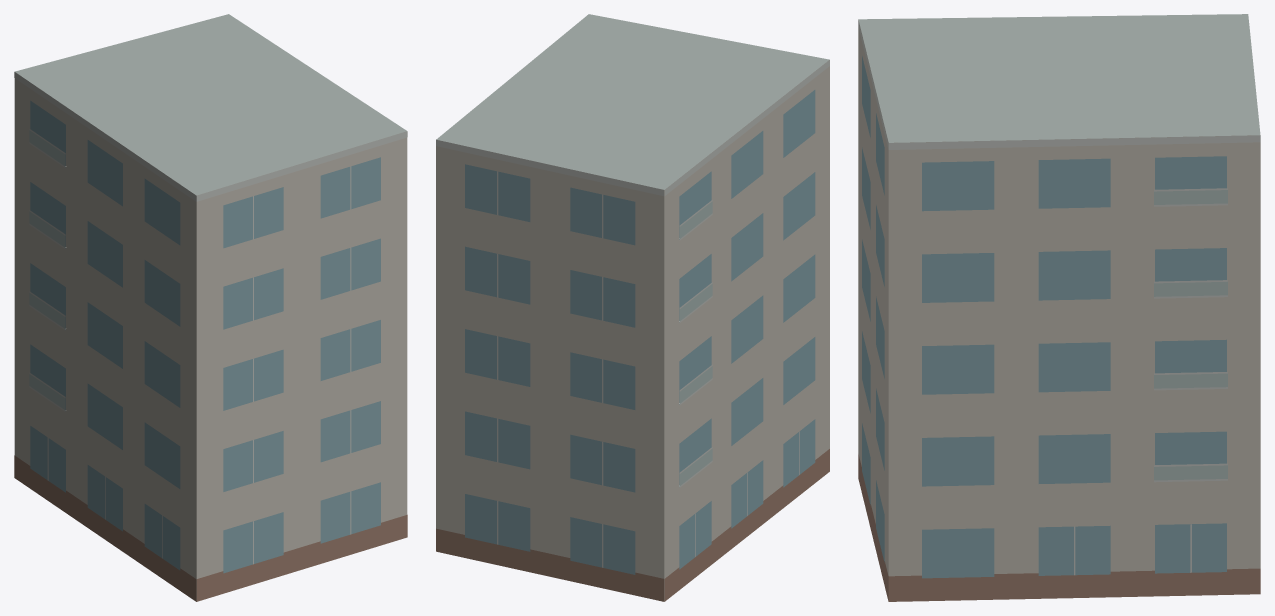
The model's file is survey-upis-32995978.glb.
3 views of the same model, side by side, from view 1: azimuth 30°, elevation 25°; view 2: azimuth 150°, elevation 25°; view 3: azimuth 270°, elevation 25° (orthographic). The views are drawn at different scales.
Visible parts, largest first — view 1: survey-upis-32995978.tmp; view 2: survey-upis-32995978.tmp; view 3: survey-upis-32995978.tmp.
Boxes of the visible parts, x1,y1,x2,y2 form: survey-upis-32995978.tmp: [14, 14, 407, 601]; survey-upis-32995978.tmp: [436, 14, 829, 601]; survey-upis-32995978.tmp: [858, 14, 1260, 601].
Bounding box in the file's own units: 9.44 × 15.65 × 12.44.
